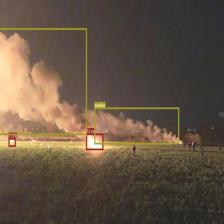fire: (86, 133, 103, 150), (8, 138, 16, 147)
smoke: (0, 27, 87, 134), (94, 107, 179, 144)
